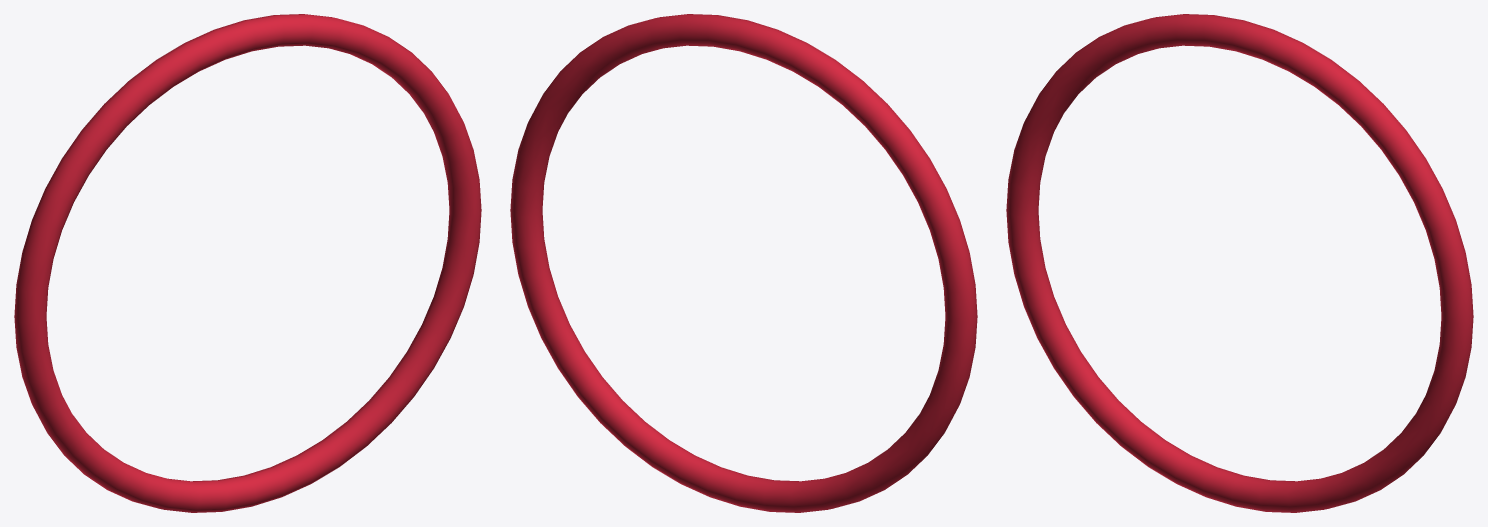
Rendered from teleop_target.dae.
3 views of the same model, side by side, from view 1: azimuth 30°, elevation 25°; view 2: azimuth 150°, elevation 25°; view 3: azimuth 330°, elevation 25° (orthographic).
Visible parts, largest first — view 1: Torus_001; view 2: Torus_001; view 3: Torus_001.
Boxes of the visible parts, <box> form: Torus_001: <box>14,14,481,512</box>; Torus_001: <box>510,14,977,512</box>; Torus_001: <box>1006,14,1473,512</box>.
Bounding box in the file's own units: 8.32 × 0.5 × 8.32.
